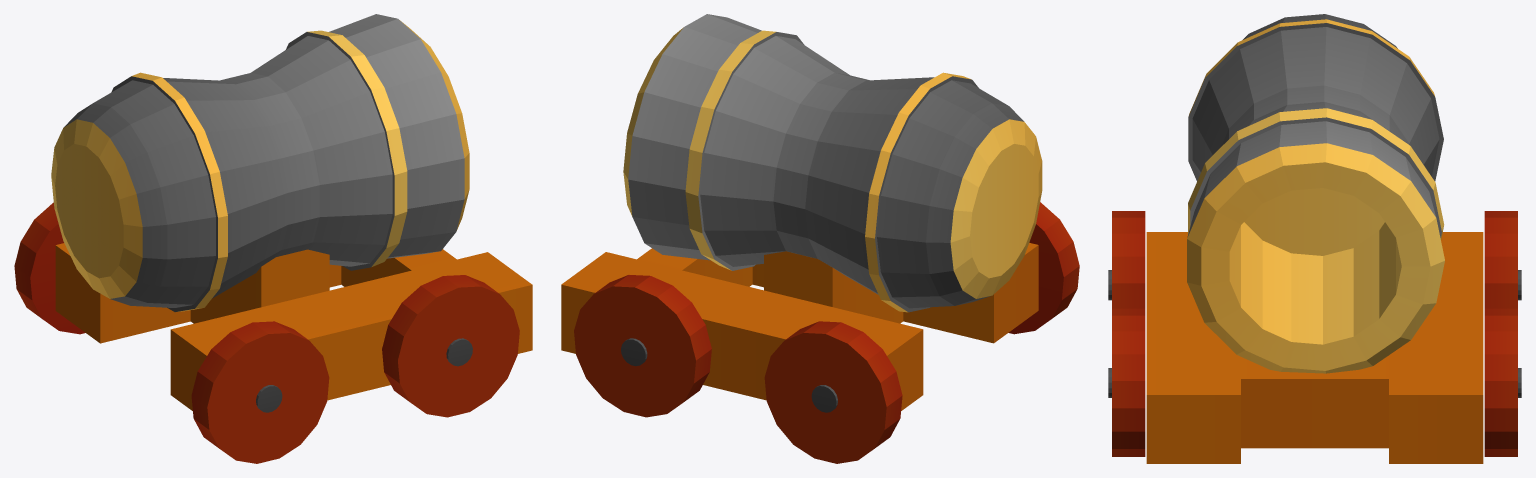
File: Bombard.fbx
The picture shows the model from 3 angles, left to right: view 1: azimuth 30°, elevation 25°; view 2: azimuth 150°, elevation 25°; view 3: azimuth 270°, elevation 25°; orthographic projection. The views are drawn at different scales.
Parts seen in each view (by area): view 1: Gun, Platform, WheelBack, WheelFront; view 2: Gun, Platform, WheelBack, WheelFront; view 3: Gun, Platform, WheelFront, WheelBack.
Part boxes in pixels (bbox=[...]): Gun: bbox=[51, 14, 469, 312]; Platform: bbox=[55, 243, 532, 410]; WheelBack: bbox=[14, 202, 329, 463]; WheelFront: bbox=[382, 275, 519, 417]; Gun: bbox=[623, 14, 1042, 312]; Platform: bbox=[561, 243, 1038, 410]; WheelBack: bbox=[764, 202, 1079, 463]; WheelFront: bbox=[574, 275, 711, 417]; Gun: bbox=[1187, 14, 1444, 373]; Platform: bbox=[1146, 232, 1483, 463]; WheelFront: bbox=[1108, 308, 1521, 456]; WheelBack: bbox=[1108, 211, 1521, 308].
Size of the model in its own units: 390 by 319 by 365.
